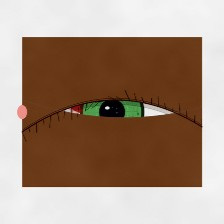hemorrhage_spot: (60, 77, 128, 132)
